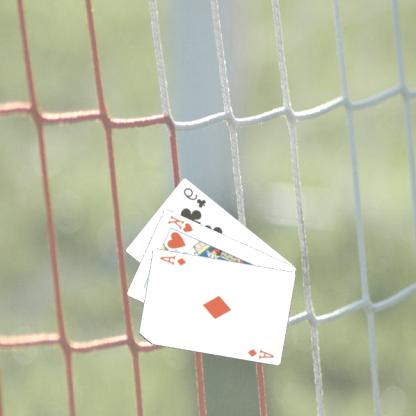9C: (182, 184, 210, 209)
AD: (159, 252, 189, 267), (247, 346, 277, 360)
KH: (166, 212, 196, 234)
